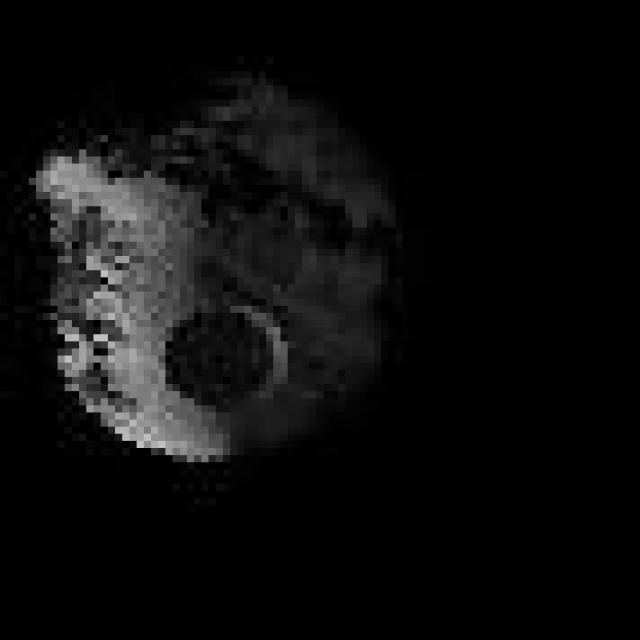Death Star: (7, 57, 410, 476)
